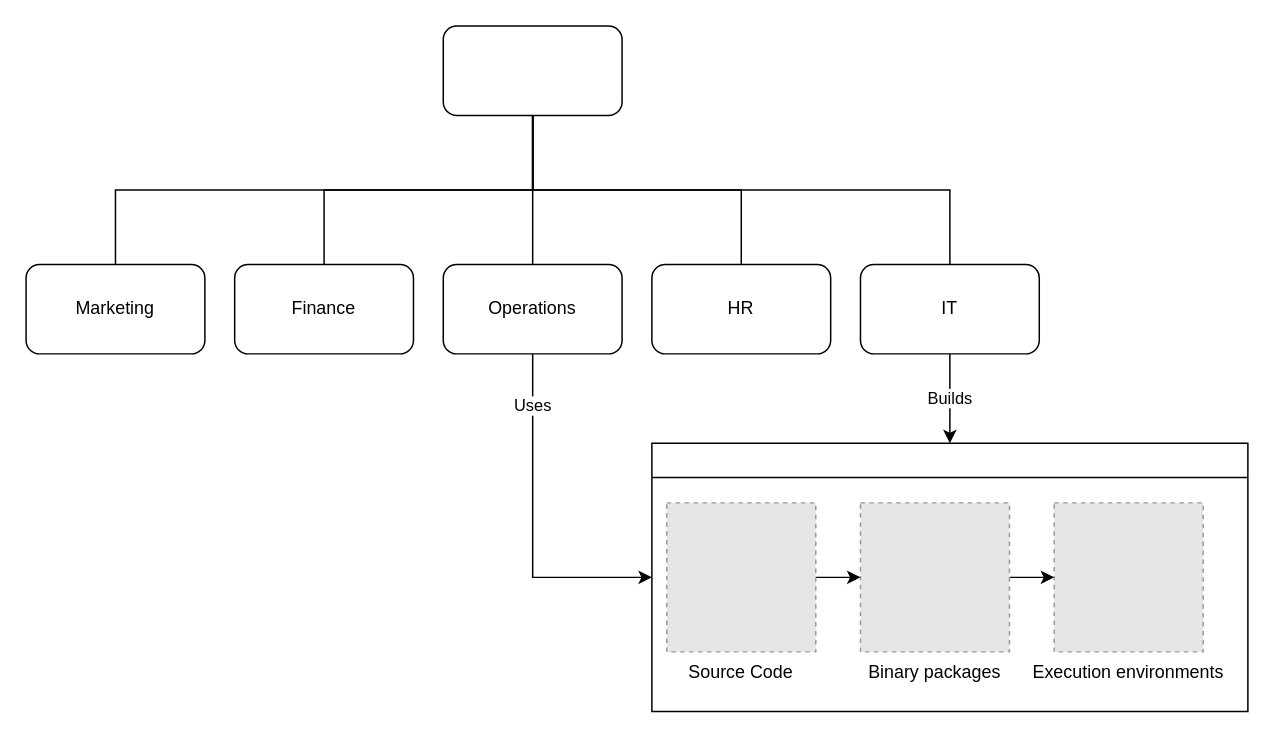
Image size: 1274x738. Some labels were removed from this diagram. Grey dashed boxes stand in for pictures. The shapes that lost their labels are listed below. From the top down, each one's box as (x1, y1, x2, y2) in pixels, then its label:
(442, 25, 622, 115): Corporation
(650, 442, 1248, 711): Application
